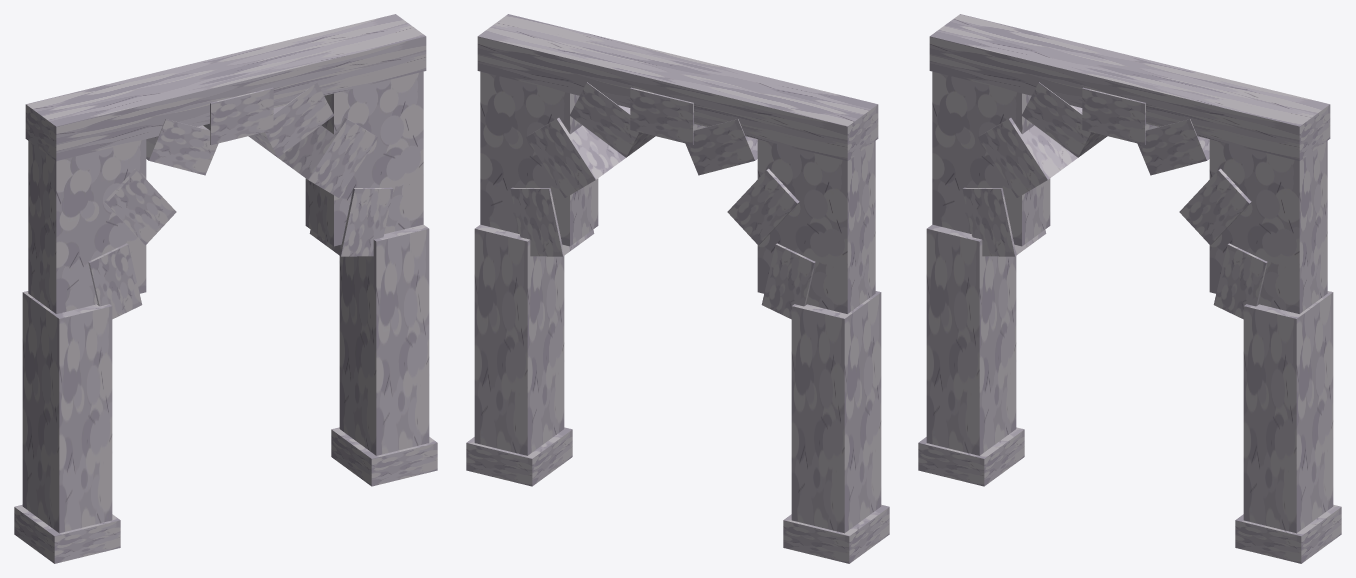
Rendered from arch.glb.
3 views of the same model, side by side, from view 1: azimuth 30°, elevation 25°; view 2: azimuth 150°, elevation 25°; view 3: azimuth 330°, elevation 25° (orthographic).
Visible parts, largest first — view 1: arch; view 2: arch; view 3: arch.
Boxes of the visible parts, <box> form: arch: <box>14,14,437,563</box>; arch: <box>466,14,889,563</box>; arch: <box>918,14,1341,563</box>.
Size of the model in its own units: 5.8 by 6.25 by 1.06.
1 material, 1 textured.
